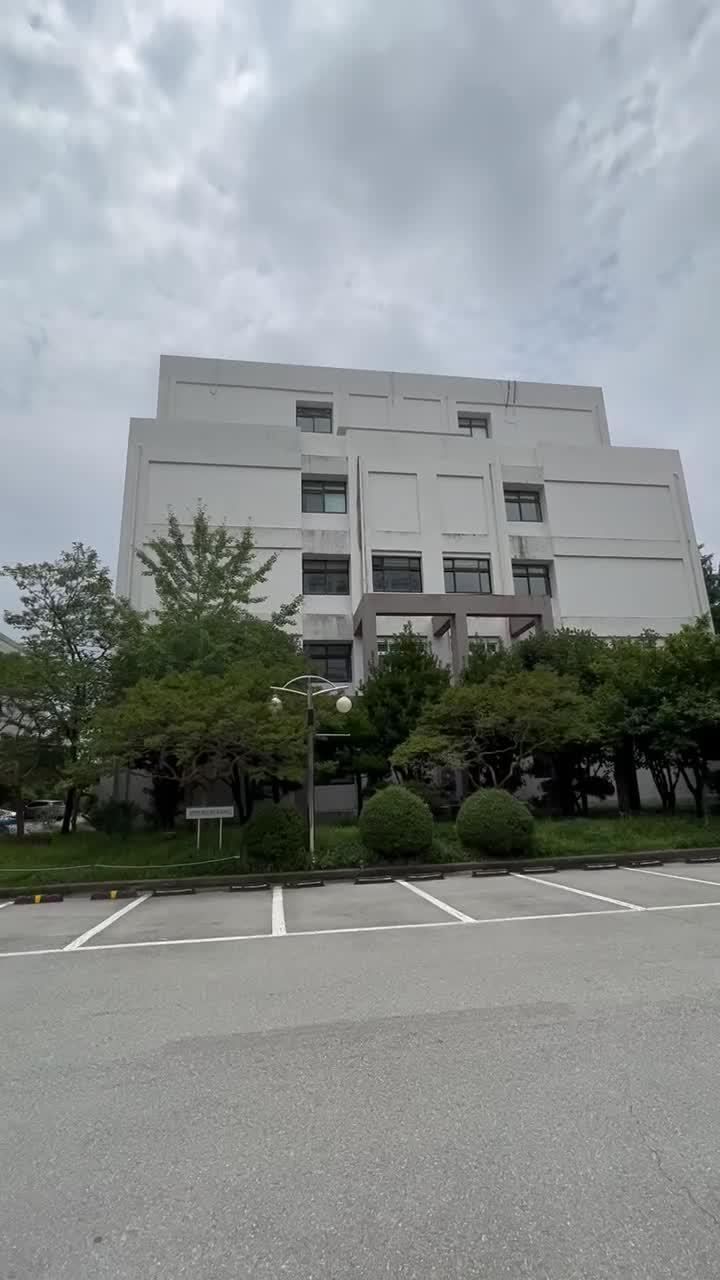building: (98, 326, 708, 650)
